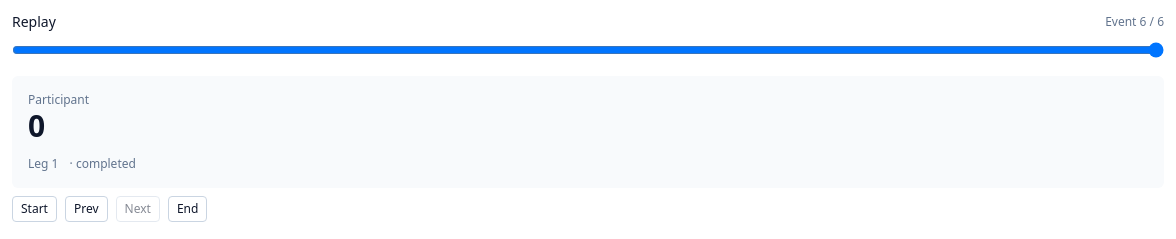
ReplayScrubber › prev/next buttons advance the position
Set the slider with test id "replay-slider" to "3" at (588,50), box [12,42,1164,58]
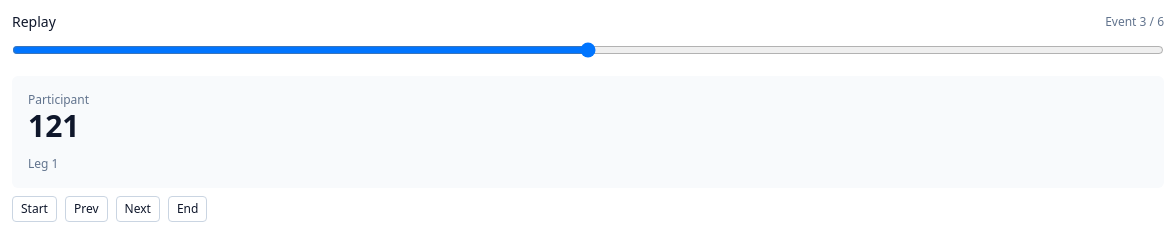
Click the button with test id "replay-next" at (138,209), box [116,196,160,222]
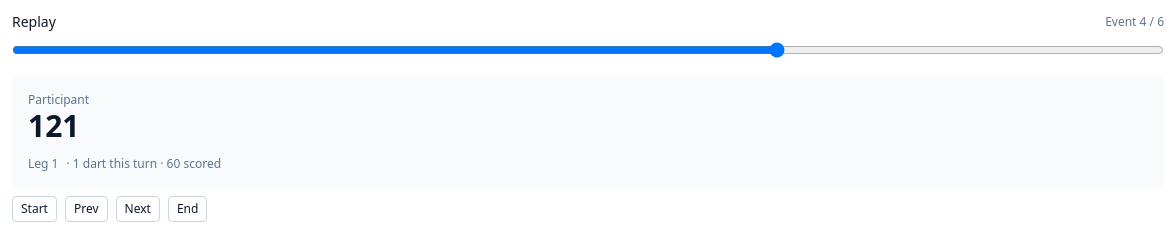
Result: the text with test id "replay-position" reads "Event 4 / 6" at [1105,14,1164,30]
Click the button with test id "replay-prev" at (86,209), box [65,196,108,222]
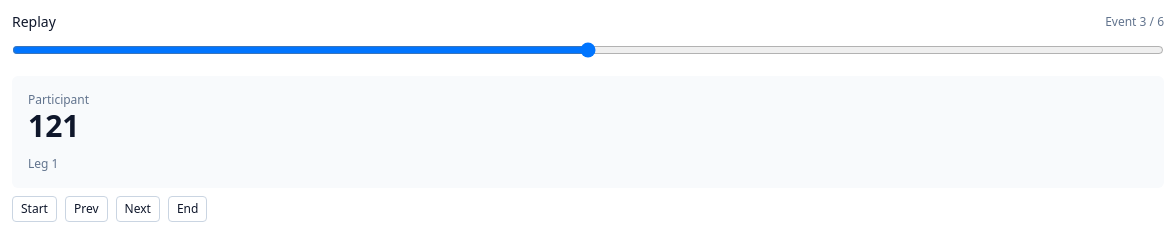
Result: the text with test id "replay-position" reads "Event 3 / 6" at [1105,14,1164,30]
